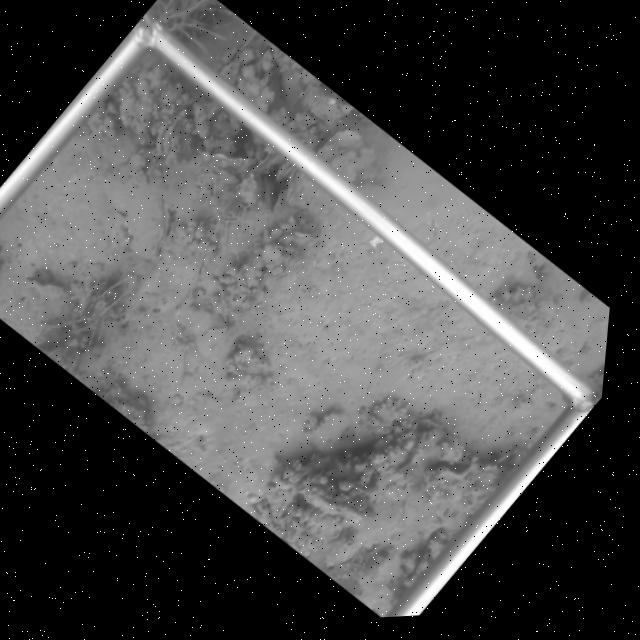Oyster-Closed: (123, 189, 177, 262), (246, 149, 273, 176)
Oyster-Open: (153, 120, 176, 160)
